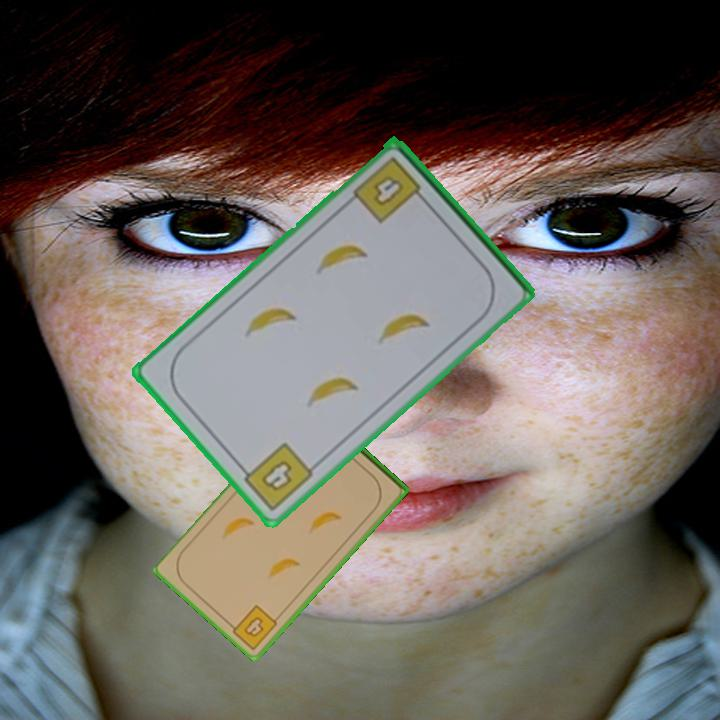4b: (234, 439, 317, 514), (349, 153, 430, 227), (225, 601, 281, 652)
